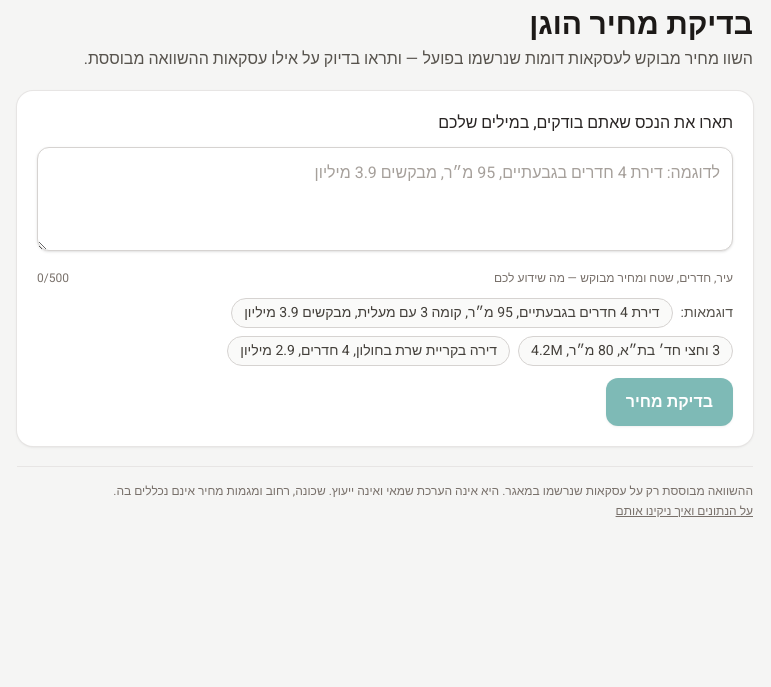
Test case: App › writes the search to the URL fragment, not the query string
Type "דירה בגבעתיים" into the text box labelled "תארו את הנכס שאתם בודקים, במילים שלכם".
click(385, 199); type("דירה בגבעתיים")  # box [37, 147, 733, 251]
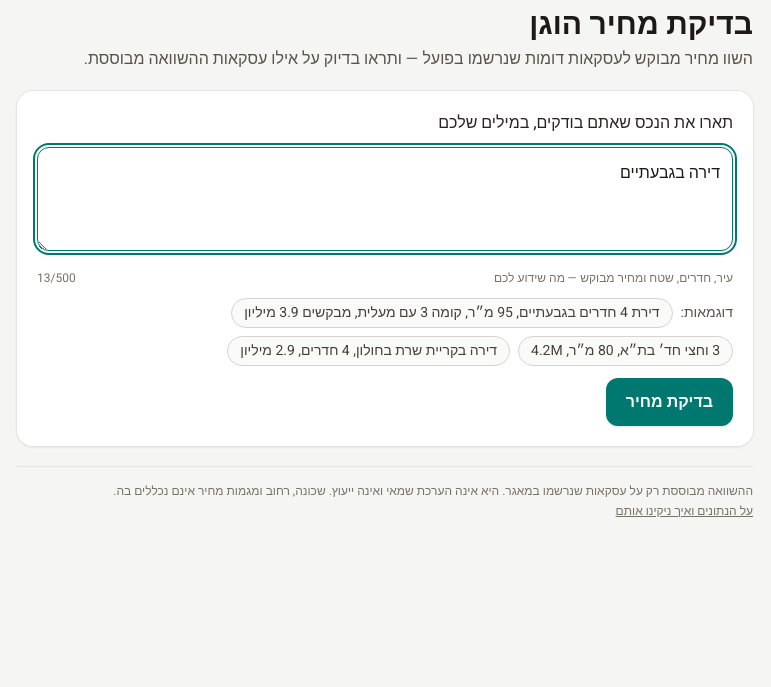
Click the button "בדיקת מחיר".
click(669, 402)  # box [606, 378, 733, 426]
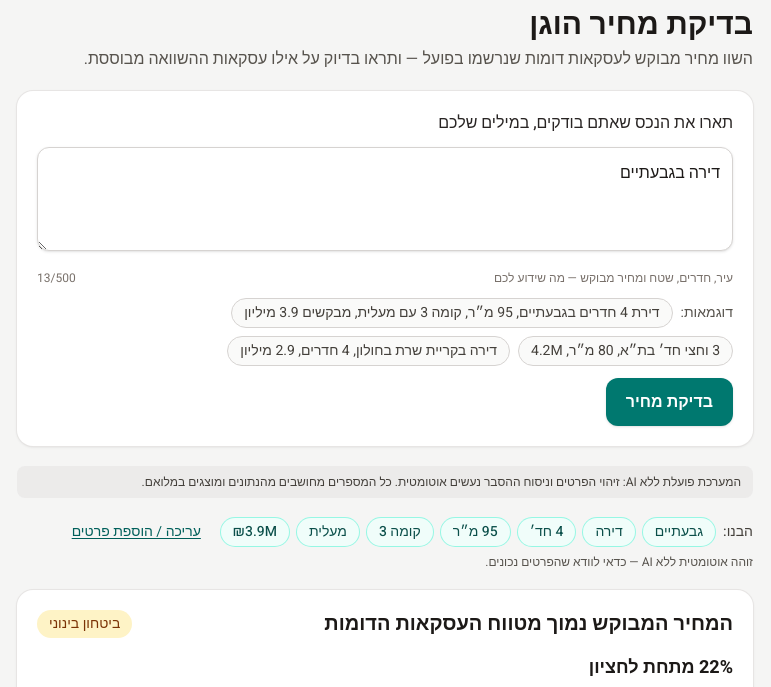
Expected: the heading "המחיר המבוקש נמוך מטווח העסקאות הדומות" is shown, [324, 610, 733, 638]
